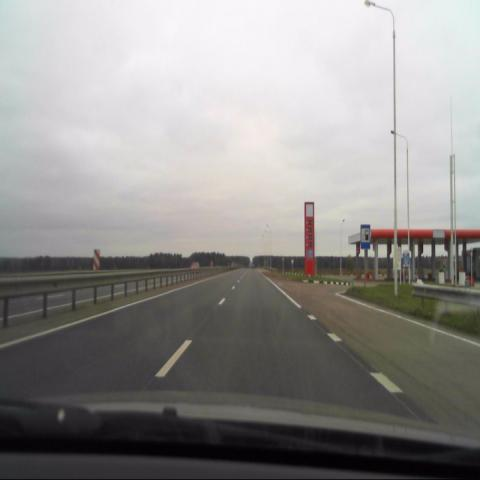7_3: (361, 225, 370, 249)
